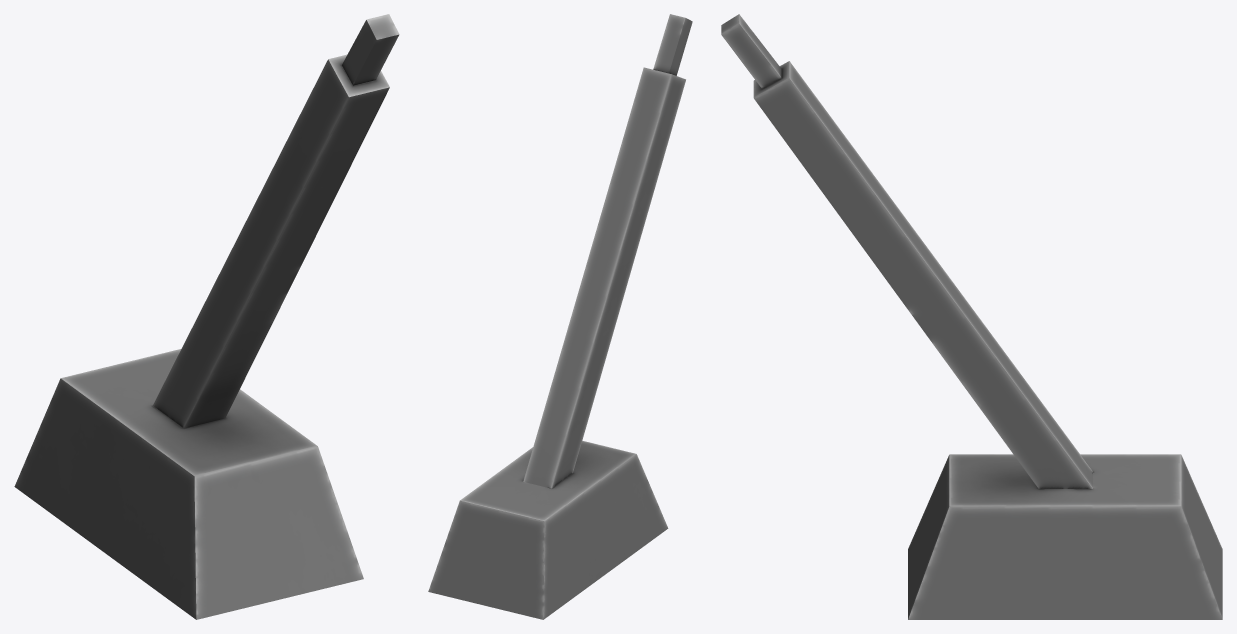
Rendered from RailsObject_2.fbx.
The picture shows the model from 3 angles, left to right: view 1: azimuth 30°, elevation 25°; view 2: azimuth 150°, elevation 25°; view 3: azimuth 270°, elevation 25°; orthographic projection. The views are drawn at different scales.
Parts seen in each view (by area): view 1: RailsObject_2; view 2: RailsObject_2; view 3: RailsObject_2.
Part boxes in pixels (x1,y1,x2,y2): RailsObject_2: [14, 14, 399, 619]; RailsObject_2: [428, 14, 692, 619]; RailsObject_2: [721, 14, 1222, 619].
Bounding box in the file's own units: 7.61 × 28.37 × 22.79.
